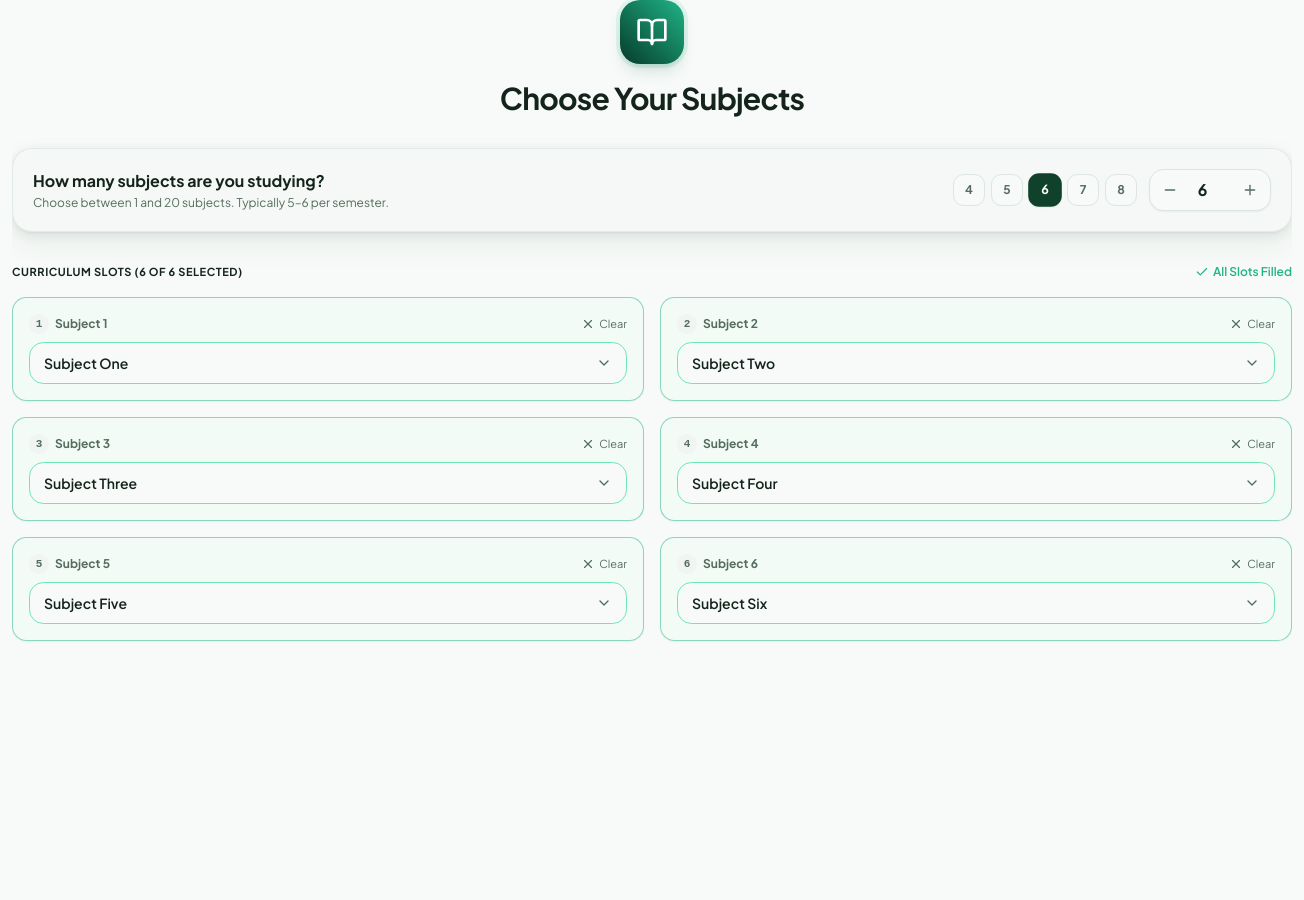
Test: ChooseSubjectsStep and Contextual Subject System › prompts user with warning if reducing subject count removes an active selection
This screenshot has width=1304, height=900.
Note: Try to reduce count from 6 to 5
Click the button named "Decrease subject count".
click(1170, 190)  # box [1154,174,1186,206]
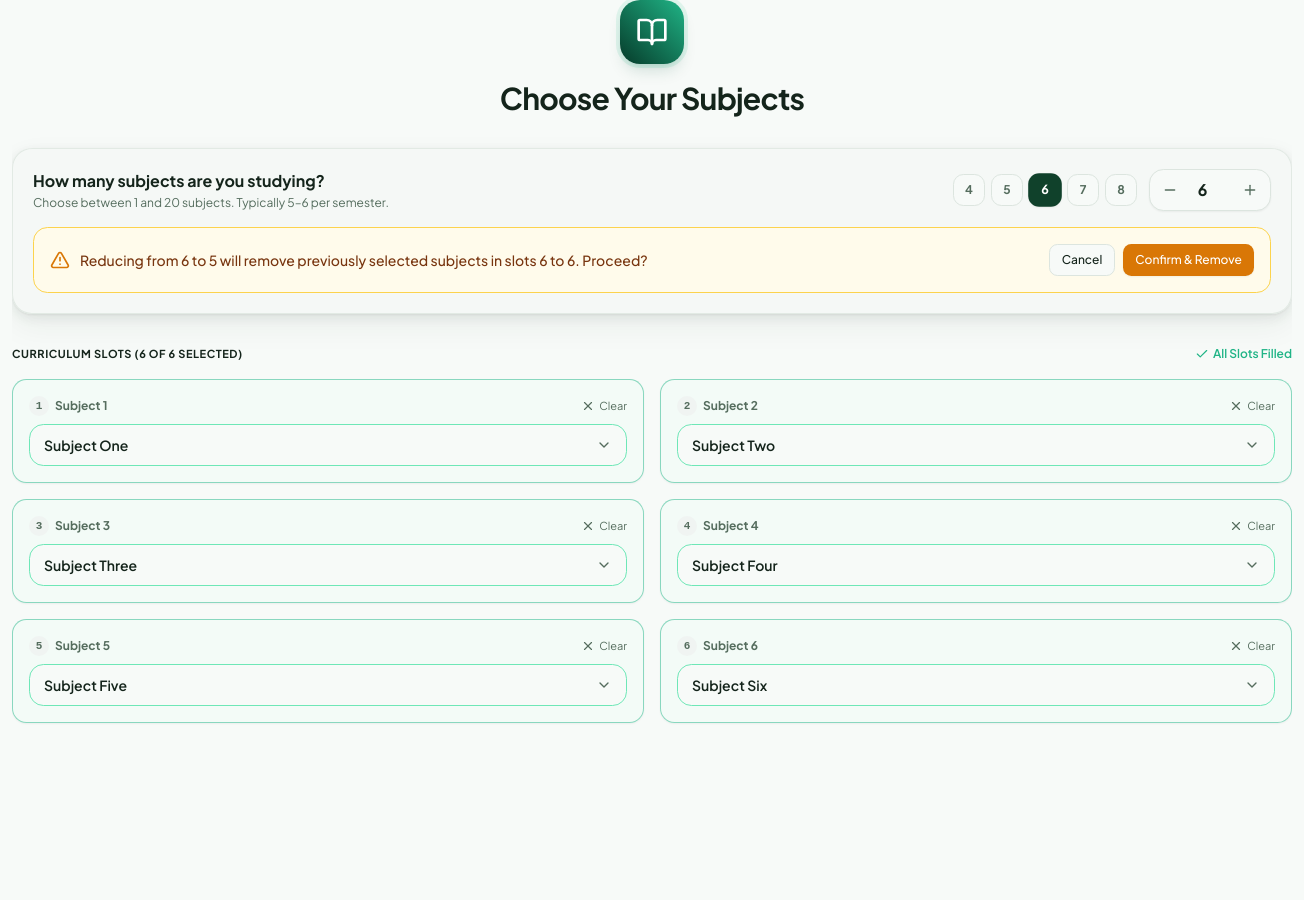
Result: the text "Reducing from 6 to 5 will remove previously selected subjects" is shown at [80,250,648,270]
Result: the button "Confirm & Remove" is shown at [1123,244,1254,276]
Result: the button "Cancel" is shown
Note: Click Cancel
Click the button "Cancel".
click(1082, 260)  # box [1049,244,1115,276]
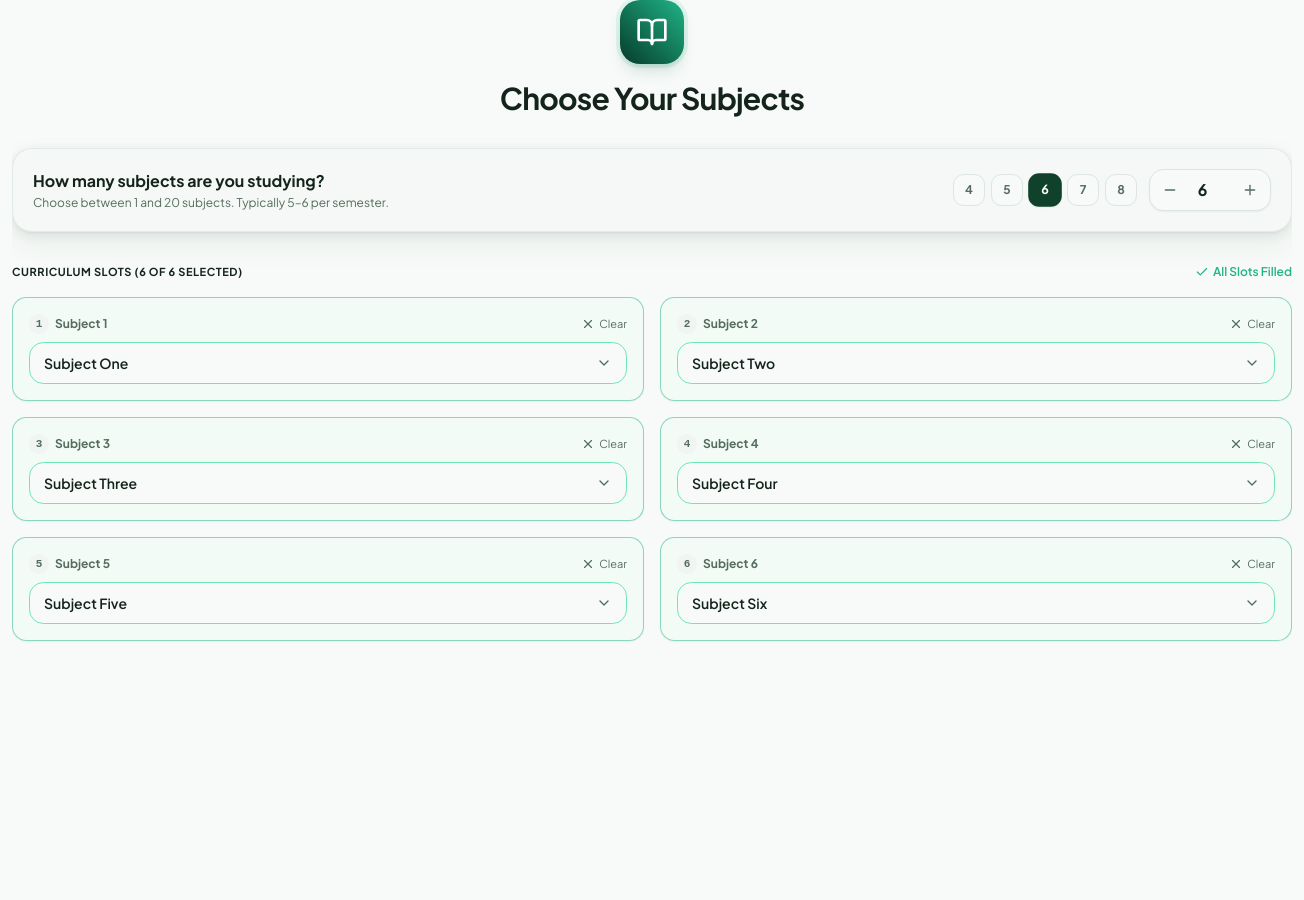
Expected: the number field named "Subject count input" holds "6", [1186,178,1234,202]
Result: the text "Reducing from 6 to 5" is gone
